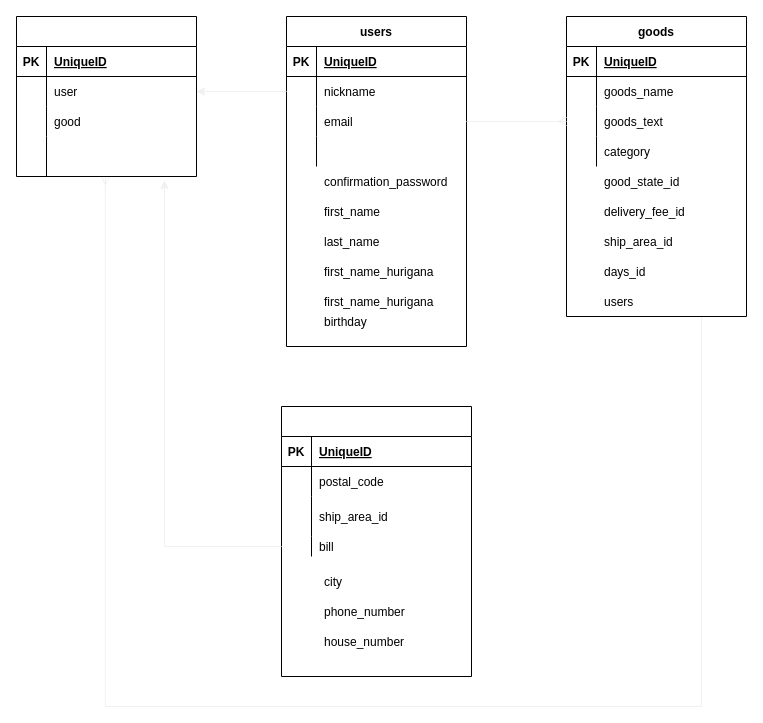
Image size: 763x723. Some labels were removed from this diagram. Each missing label, with the box of its shape:
addresses: (280, 406, 472, 676)
purchase_histories: (16, 16, 196, 176)
